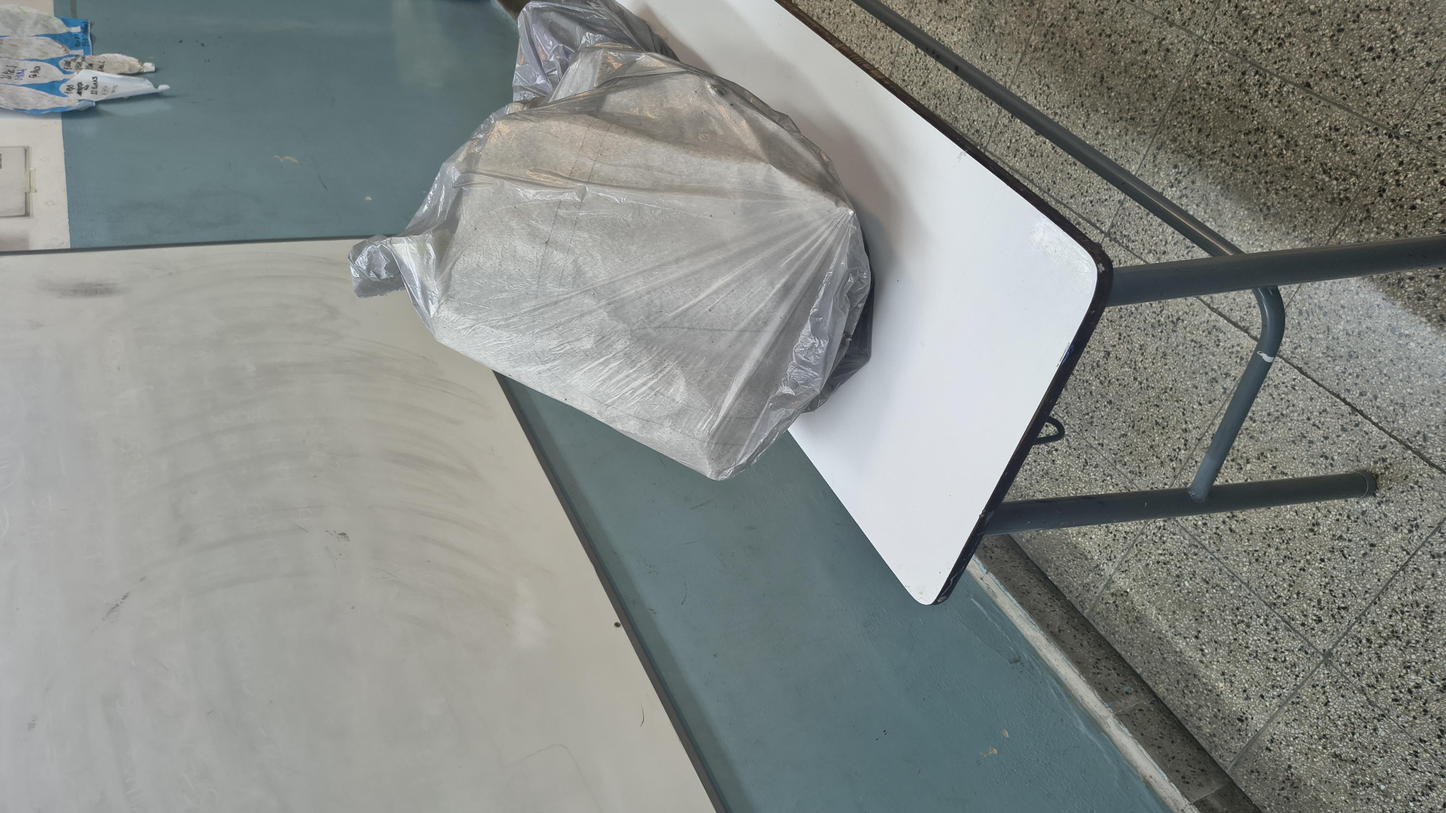Garbage: (565, 169, 1446, 498)
